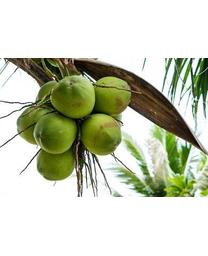coconut: (82, 112, 128, 163), (52, 71, 97, 120), (35, 111, 79, 154), (36, 140, 77, 181), (16, 101, 52, 147), (98, 77, 131, 124)
